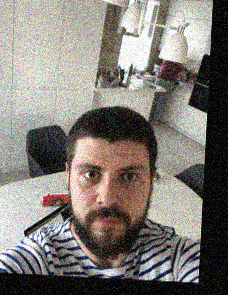without_mask: (70, 151, 149, 259)
